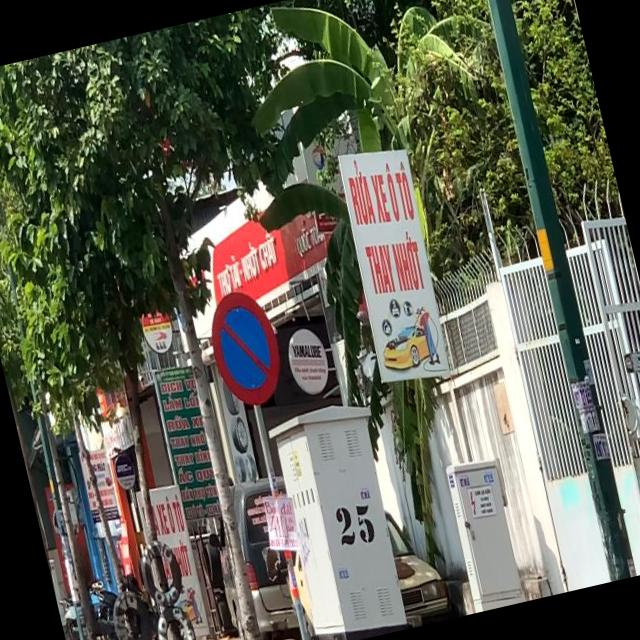P-131a: (203, 284, 290, 412)
